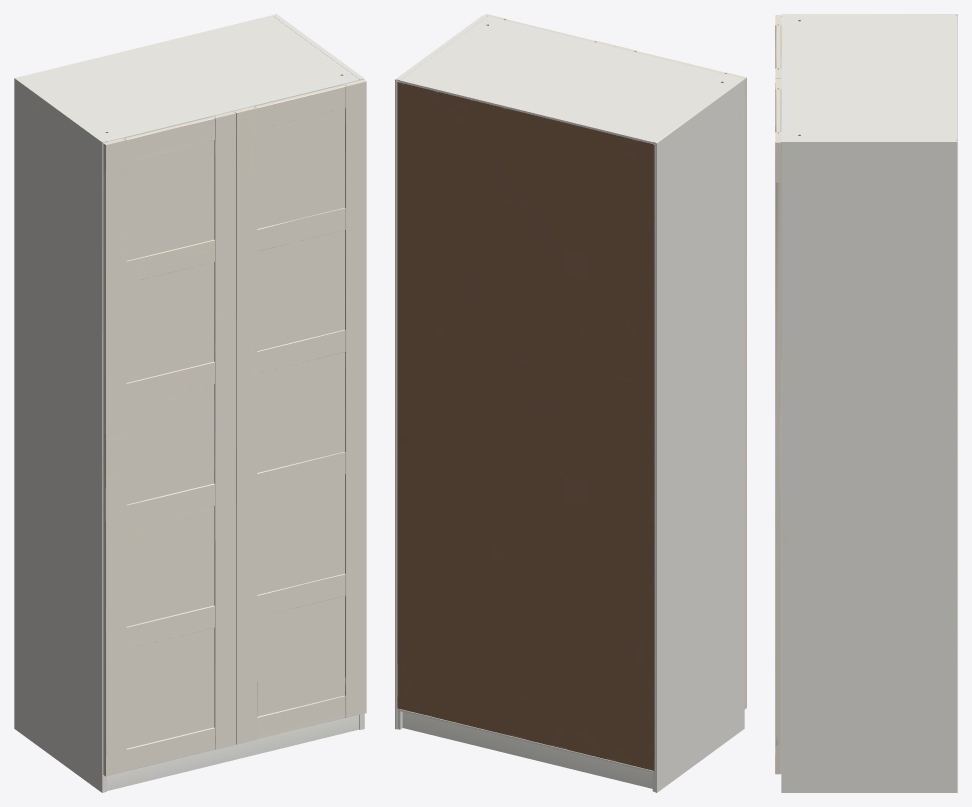
The model's file is pax_bergsbo_szafa_2_drzwi_49904634.glb.
3 renders of one model, left to right at view 1: azimuth 30°, elevation 25°; view 2: azimuth 150°, elevation 25°; view 3: azimuth 270°, elevation 25°, orthographic.
Parts seen in each view (by area): view 1: pax_bergsbo_szafa_2_drzwi_49904634; view 2: pax_bergsbo_szafa_2_drzwi_49904634; view 3: pax_bergsbo_szafa_2_drzwi_49904634.
Boxes of the visible parts, <box> form: pax_bergsbo_szafa_2_drzwi_49904634: <box>14,14,366,792</box>; pax_bergsbo_szafa_2_drzwi_49904634: <box>395,14,746,792</box>; pax_bergsbo_szafa_2_drzwi_49904634: <box>775,14,957,792</box>.
Size of the model in its own units: 0.9975 by 2.36 by 0.5993.
1 material, 1 textured.
